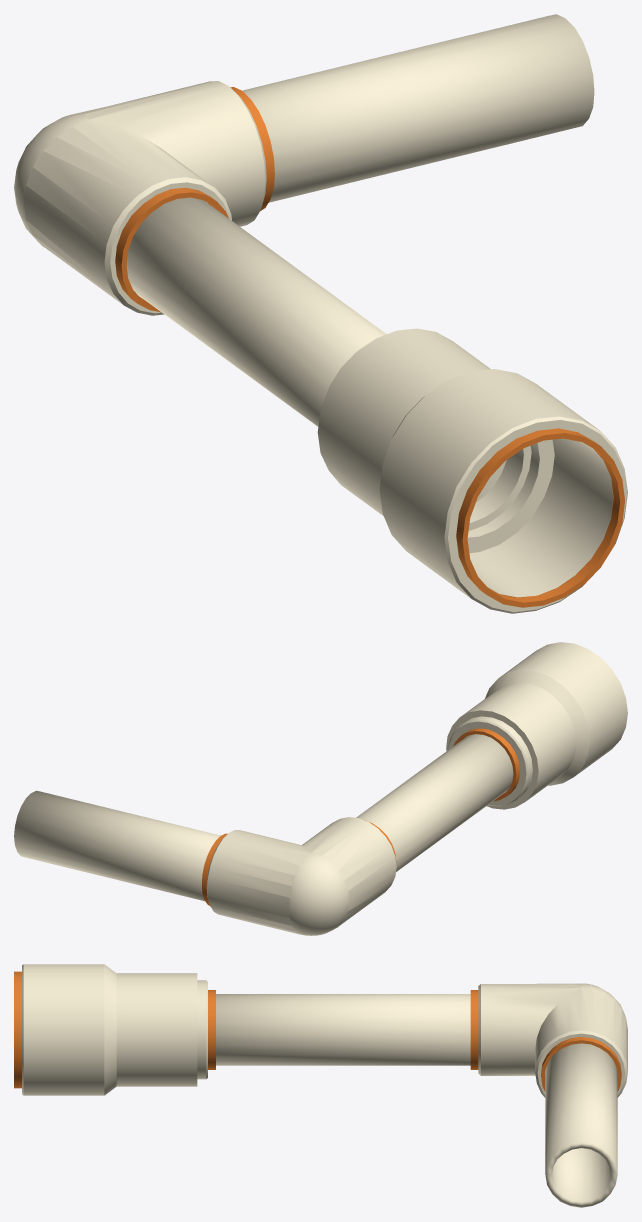
Rendered from pipes_supply__water-city_filter_and_softener-no_and_plumbing-cpvc.glb.
3 views of the same model, one above another, from view 1: azimuth 30°, elevation 25°; view 2: azimuth 150°, elevation 25°; view 3: azimuth 270°, elevation 25° (orthographic). The views are drawn at different scales.
Parts seen in each view (by area): view 1: pipe_supply_entry_direct, fit_bushing_pipe_supply_entry_direct, fit_elbow_pipe_supply_entry_direct_1; view 2: pipe_supply_entry_direct, fit_bushing_pipe_supply_entry_direct, fit_elbow_pipe_supply_entry_direct_1; view 3: pipe_supply_entry_direct, fit_bushing_pipe_supply_entry_direct, fit_elbow_pipe_supply_entry_direct_1.
Boxes of the visible parts, x1,y1,x2,y2 form: pipe_supply_entry_direct: (126, 14, 594, 426); fit_bushing_pipe_supply_entry_direct: (317, 328, 627, 613); fit_elbow_pipe_supply_entry_direct_1: (14, 81, 274, 315); pipe_supply_entry_direct: (14, 734, 513, 901); fit_bushing_pipe_supply_entry_direct: (446, 642, 627, 809); fit_elbow_pipe_supply_entry_direct_1: (201, 817, 396, 935); pipe_supply_entry_direct: (216, 994, 617, 1207); fit_bushing_pipe_supply_entry_direct: (14, 964, 215, 1095); fit_elbow_pipe_supply_entry_direct_1: (470, 983, 627, 1097).
Size of the model in its own units: 0.126 by 0.0406 by 0.189.
